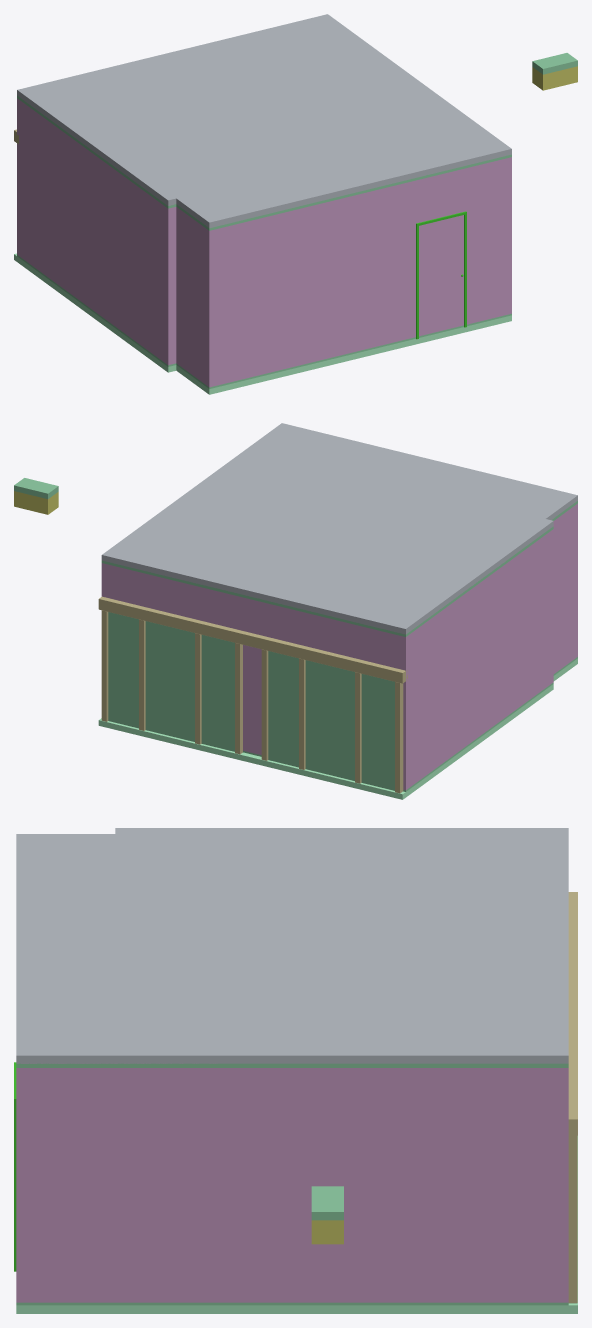
The model's file is FloorPlan10_physics.fbx.
The picture shows the model from 3 angles, top to bottom: view 1: azimuth 30°, elevation 25°; view 2: azimuth 150°, elevation 25°; view 3: azimuth 270°, elevation 25°; orthographic projection. The views are drawn at different scales.
Parts seen in each view (by area): view 1: Walls, Ceiling, Floor, StandardUpperCabinetWindow, StandardDoorFrame1; view 2: Ceiling, Walls, WindowStructure, WindowGlass2, WindowGlass5, WindowGlass4, WindowGlass1, Floor, WindowGlass3, WindowGlass6, StandardUpperCabinetWindow; view 3: Walls, Ceiling, Floor, WindowStructure, StandardUpperCabinetWindow, StandardDoorFrame1.
Part boxes in pixels (x1,y1,x2,y2): Walls: [17, 95, 511, 388]; Ceiling: [17, 14, 511, 228]; Floor: [14, 253, 511, 394]; StandardUpperCabinetWindow: [532, 53, 577, 90]; StandardDoorFrame1: [416, 211, 466, 339]; Ceiling: [101, 423, 577, 634]; Walls: [101, 501, 577, 791]; WindowStructure: [98, 596, 407, 793]; WindowGlass2: [305, 660, 354, 780]; WindowGlass5: [145, 621, 194, 741]; WindowGlass4: [201, 635, 234, 751]; WindowGlass1: [361, 674, 394, 790]; Floor: [98, 658, 577, 799]; WindowGlass3: [268, 651, 298, 767]; WindowGlass6: [108, 612, 138, 728]; StandardUpperCabinetWindow: [14, 478, 58, 514]; Walls: [16, 1063, 568, 1305]; Ceiling: [16, 828, 568, 1063]; Floor: [16, 1136, 577, 1313]; WindowStructure: [568, 892, 577, 1303]; StandardUpperCabinetWindow: [311, 1186, 343, 1244]; StandardDoorFrame1: [14, 1062, 16, 1271].
Bounding box in the file's own units: 872 × 302 × 597.
